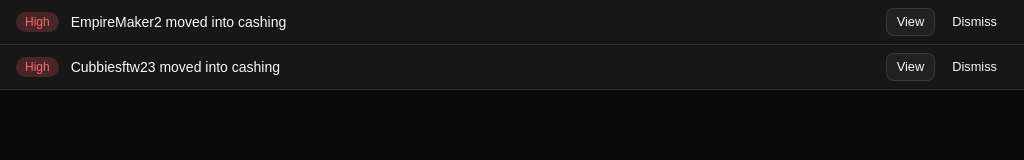
Test: dismissing and surfacing › removes only the dismissed row and marks that item surfaced
The image size is (1024, 160).
Click the button "Dismiss" in the row of "EmpireMaker2 moved into cashing" at (975, 22), box [941,8,1008,36]
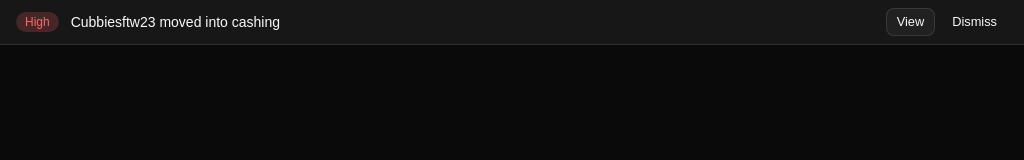
Expected: the list item shows "Cubbiesftw23", [71,14,280,30]
Now the number of list items is 1, box [0,0,1023,44]
